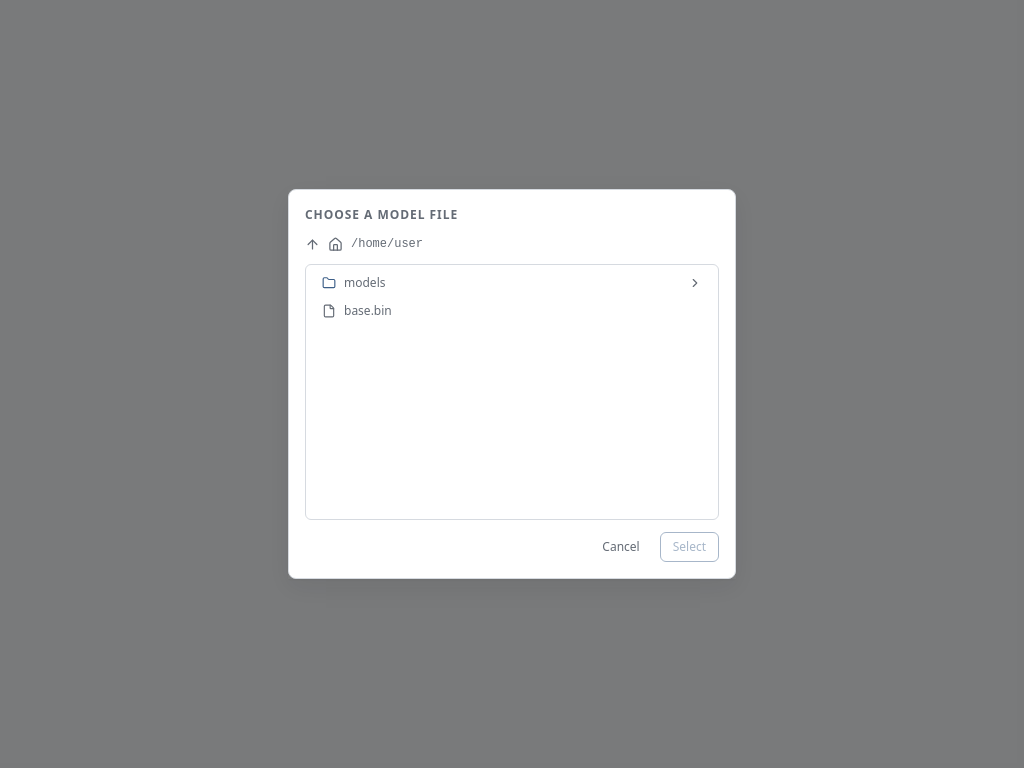
it: FilePicker › navigates into a directory
The image size is (1024, 768).
Click the button "models" at (365, 282), box [310,269,714,297]
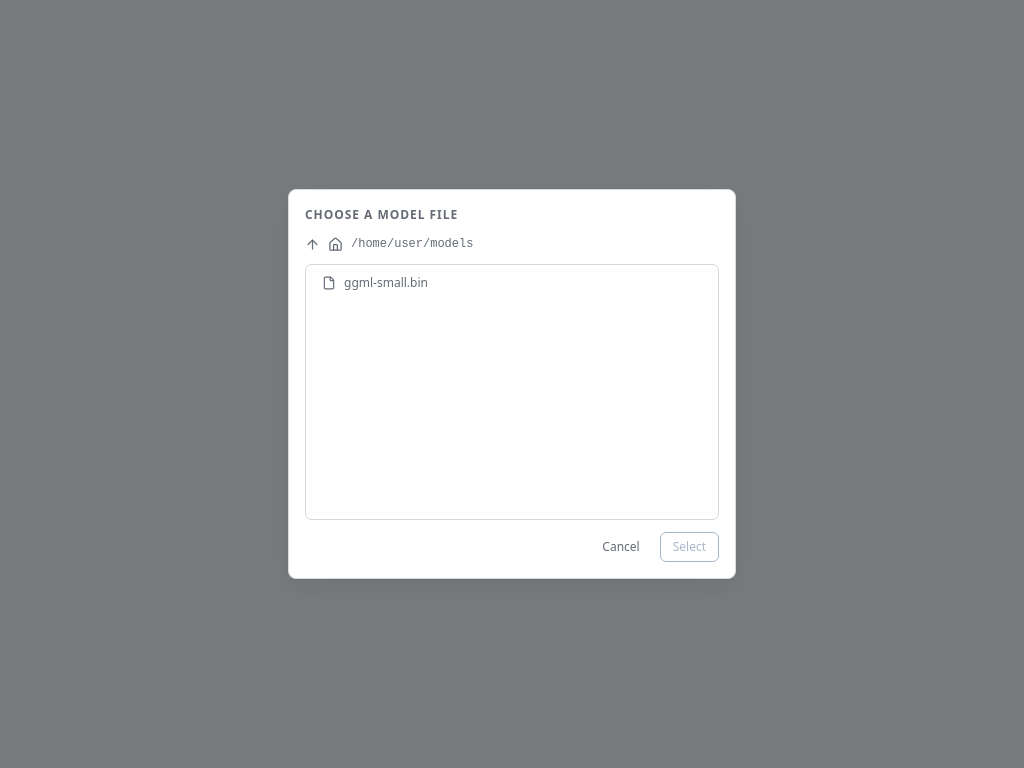
expect the button "ggml-small.bin" is shown: met, box [310,269,714,297]
